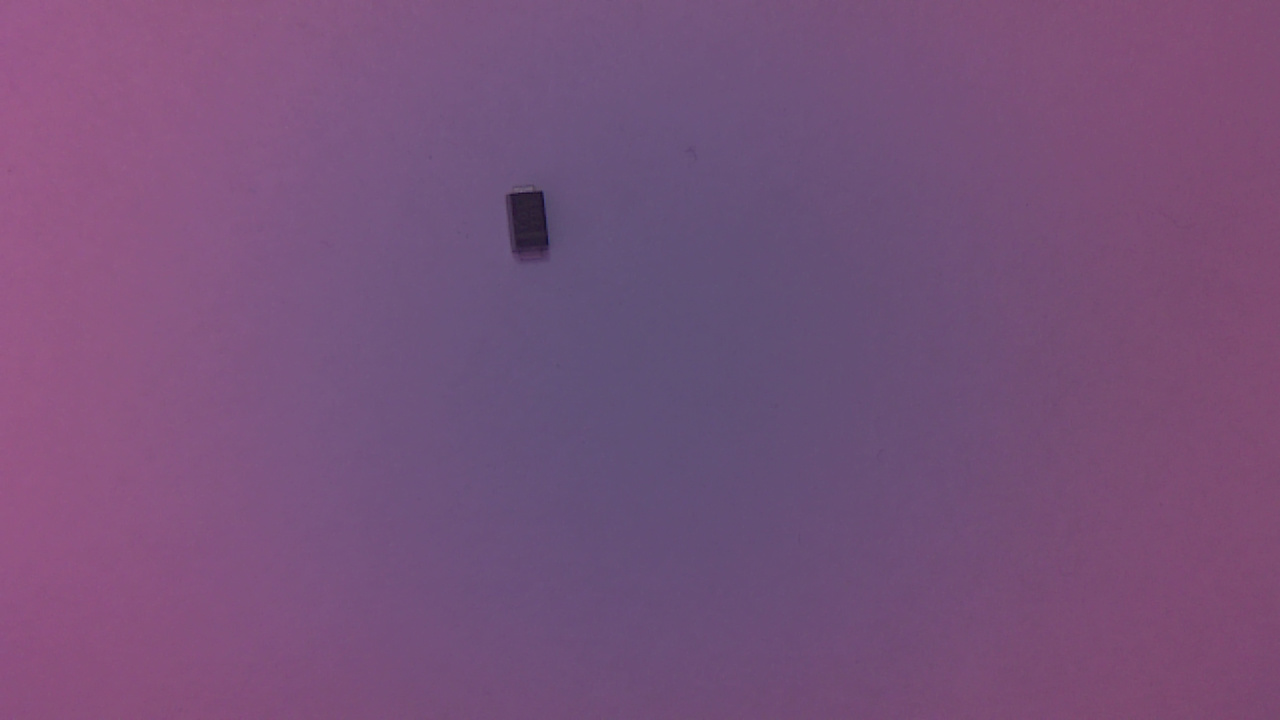Diode: (508, 187, 576, 272)
